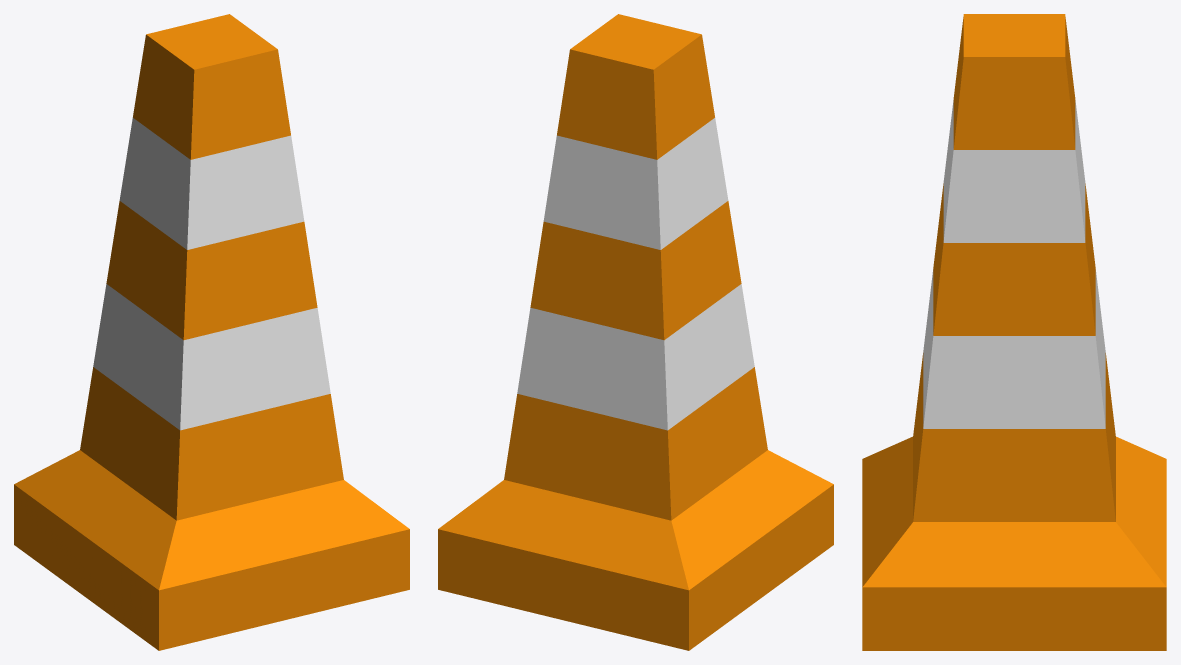
3 renders of one model, left to right at view 1: azimuth 30°, elevation 25°; view 2: azimuth 150°, elevation 25°; view 3: azimuth 270°, elevation 25°, orthographic. The views are drawn at different scales.
Parts seen in each view (by area): view 1: Cube.068; view 2: Cube.068; view 3: Cube.068.
Part boxes in pixels (bbox=[...]): Cube.068: bbox=[14, 14, 409, 650]; Cube.068: bbox=[438, 14, 833, 650]; Cube.068: bbox=[862, 14, 1166, 650].
Bounding box in the file's own units: 112 × 225 × 112.
Materials: 1 (1 with a texture image).
